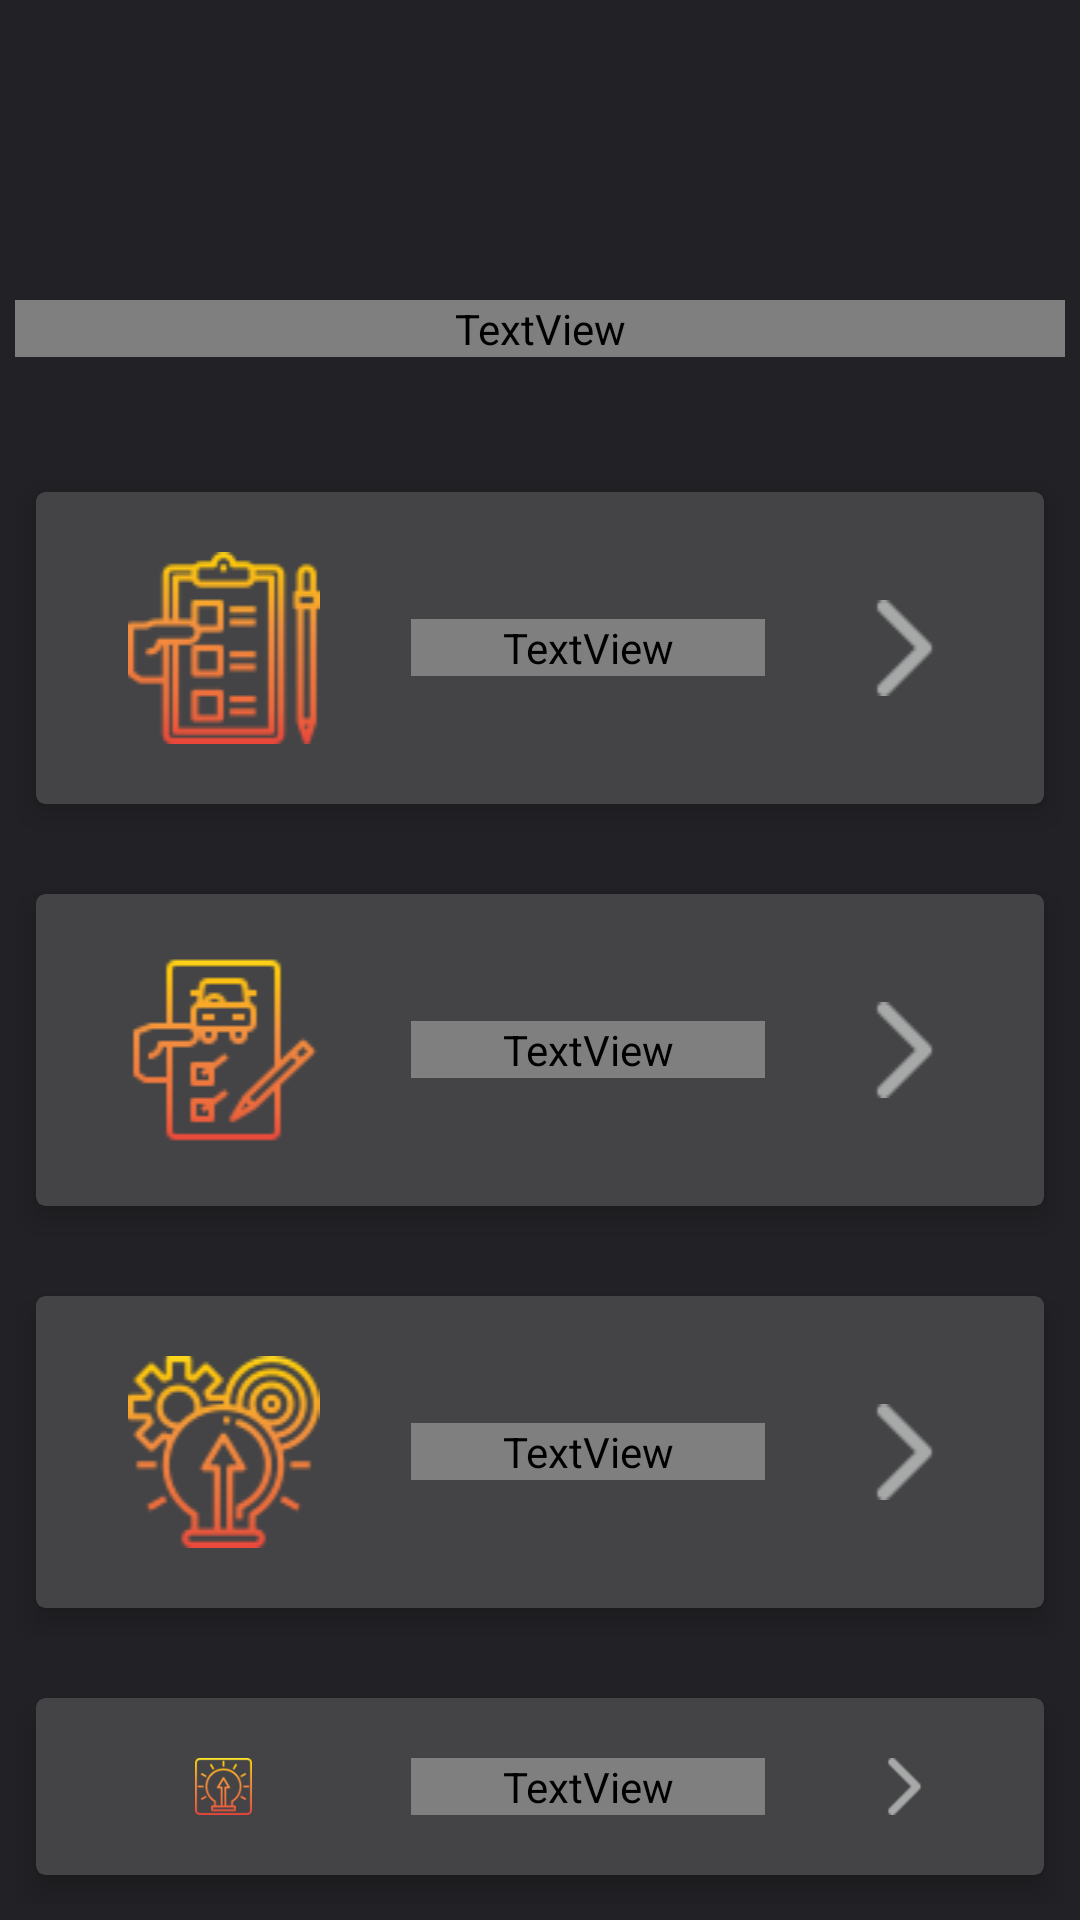

Locate icon controls on the screen. Image size 1080×1920, boxes as (x1, y1, x2, y2).
arrow right: (877, 600, 932, 696), (877, 1002, 932, 1098), (877, 1404, 932, 1500), (888, 1758, 921, 1815)
checking: (128, 552, 320, 744)
electricity: (128, 1356, 320, 1548), (195, 1758, 252, 1815)
